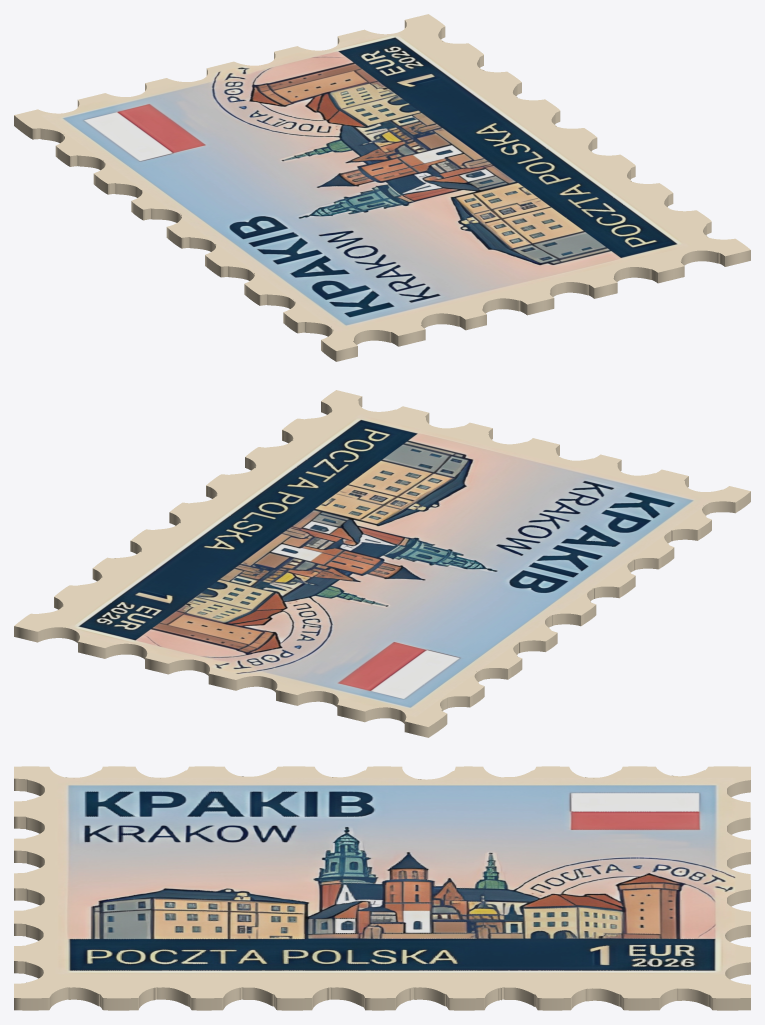
File: Card_Krakow.glb
3 views of the same model, one above another, from view 1: azimuth 30°, elevation 25°; view 2: azimuth 150°, elevation 25°; view 3: azimuth 270°, elevation 25° (orthographic). The views are drawn at different scales.
Parts seen in each view (by area): view 1: Curve; view 2: Curve; view 3: Curve.
Boxes of the visible parts, x1,y1,x2,y2 form: Curve: [14, 14, 750, 361]; Curve: [14, 390, 750, 737]; Curve: [14, 766, 750, 1010].
Size of the model in its own units: 124 by 3.07 by 167.
Materials: 1 (1 with a texture image).
